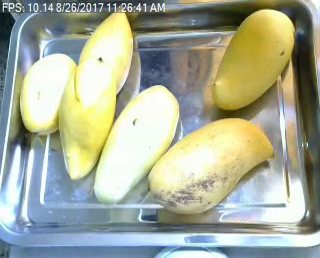Mango: (149, 118, 274, 215), (93, 82, 181, 204), (210, 8, 297, 113), (58, 55, 118, 178), (74, 4, 134, 95), (19, 53, 78, 135)
